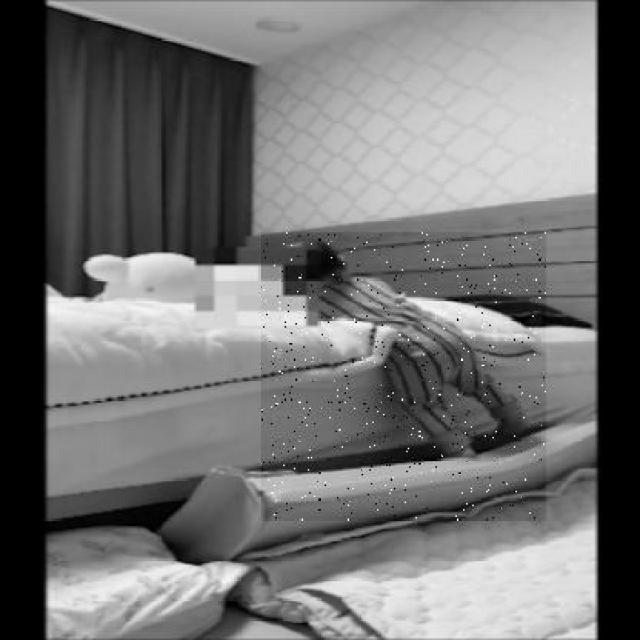child: (260, 232, 546, 520)
